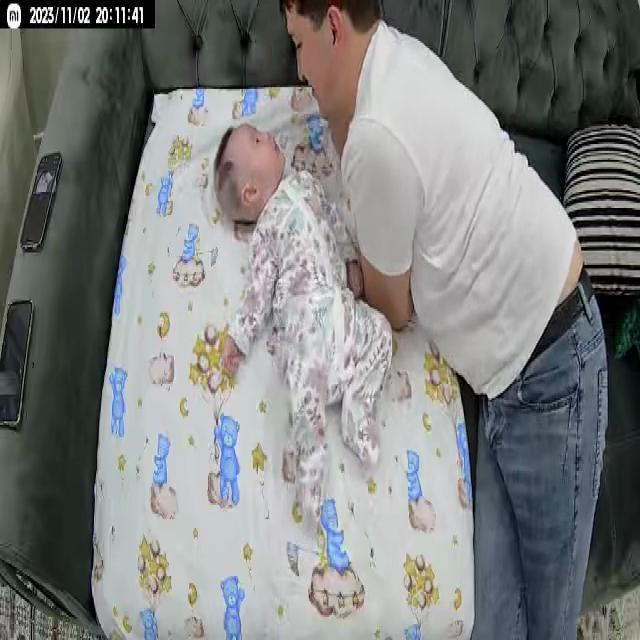baby: (211, 114, 397, 529)
